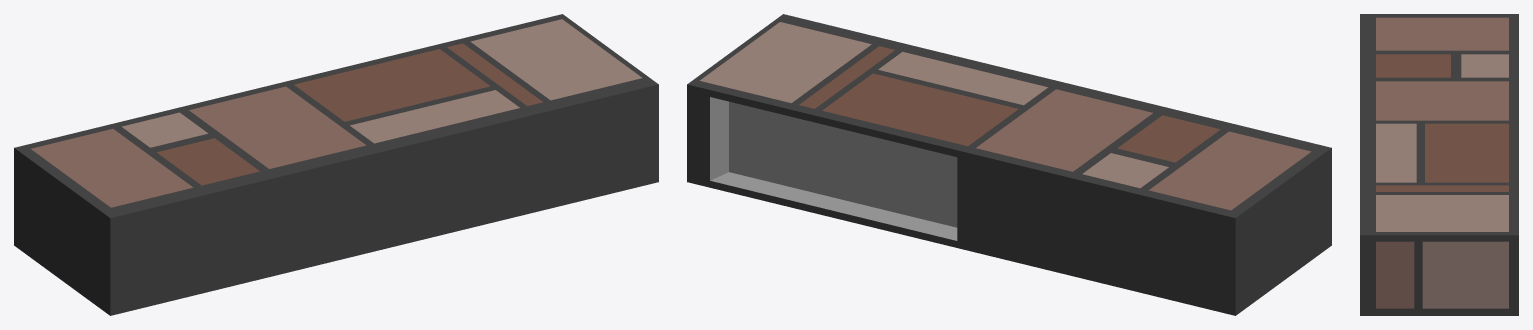
File: counter.glb
3 renders of one model, left to right at view 1: azimuth 30°, elevation 25°; view 2: azimuth 150°, elevation 25°; view 3: azimuth 270°, elevation 25°, orthographic. The views are drawn at different scales.
Visible parts, largest first — view 1: kitchen_item_023; view 2: kitchen_item_023; view 3: kitchen_item_023.
Boxes of the visible parts, x1,y1,x2,y2 form: kitchen_item_023: (14, 14, 658, 315); kitchen_item_023: (687, 14, 1331, 315); kitchen_item_023: (1360, 14, 1518, 315).
Bounding box in the file's own units: 3.3 × 0.5653 × 0.9999.
1 material, 1 textured.
